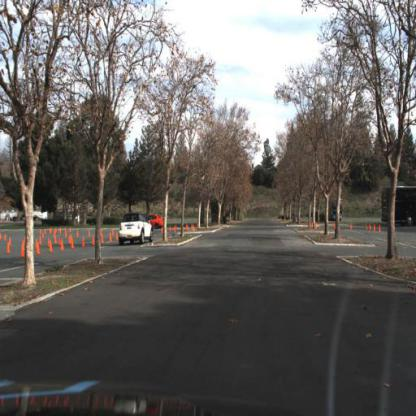car: (117, 209, 154, 245), (146, 212, 164, 229)
truck: (378, 184, 416, 226), (327, 196, 343, 221)
